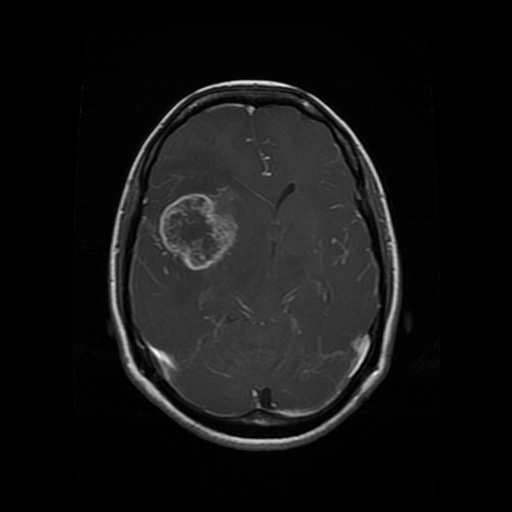glioma: (156, 183, 244, 271)
